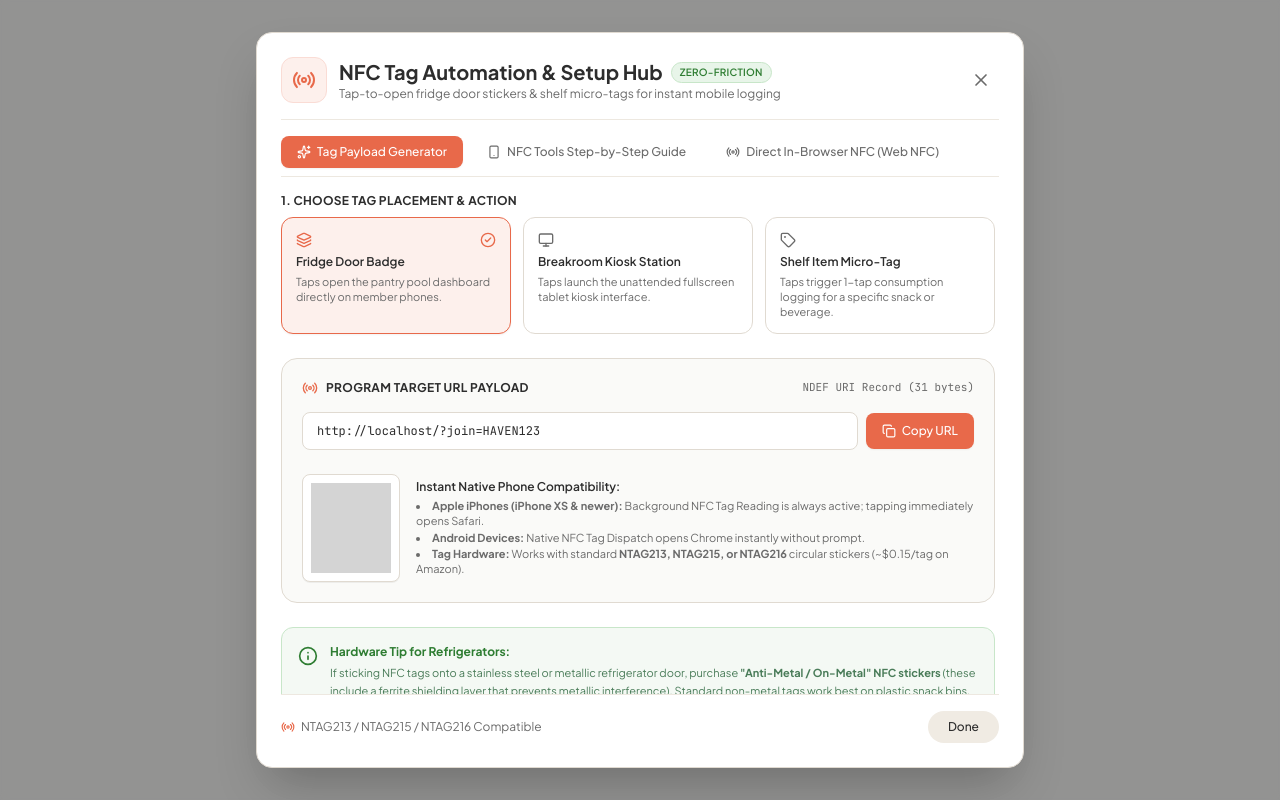
it: NFCTagModal Component › switches between Fridge Door, Kiosk Mode, and Item Micro-Tag payloads
The width and height of the screenshot is (1280, 800).
Note: Switch to Kiosk
Click the text "Breakroom Kiosk Station": (609, 262) [538,254,681,269]
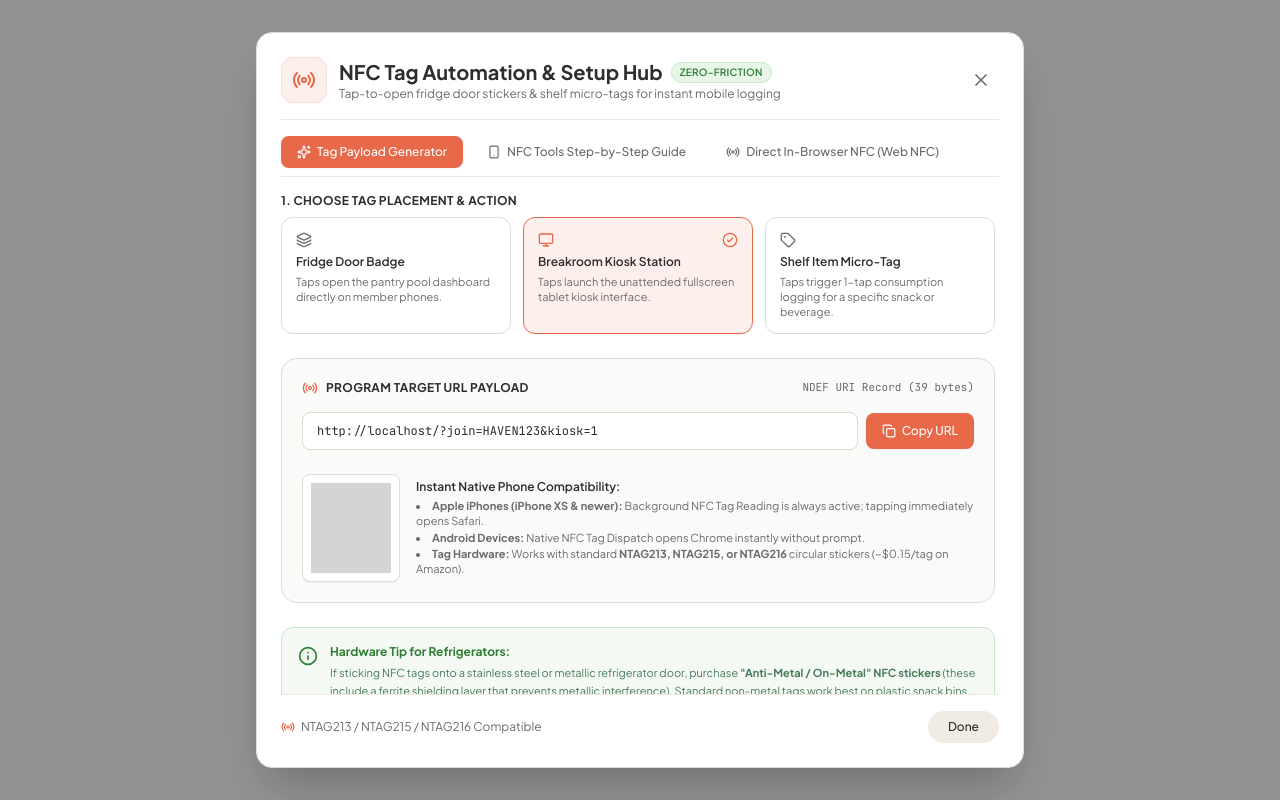
Check: the field showing "kiosk=1" is shown, box [302,412,858,450]
Note: Switch to Item Micro-Tag
Click the text "Shelf Item Micro-Tag": (840, 262) [780,254,901,269]
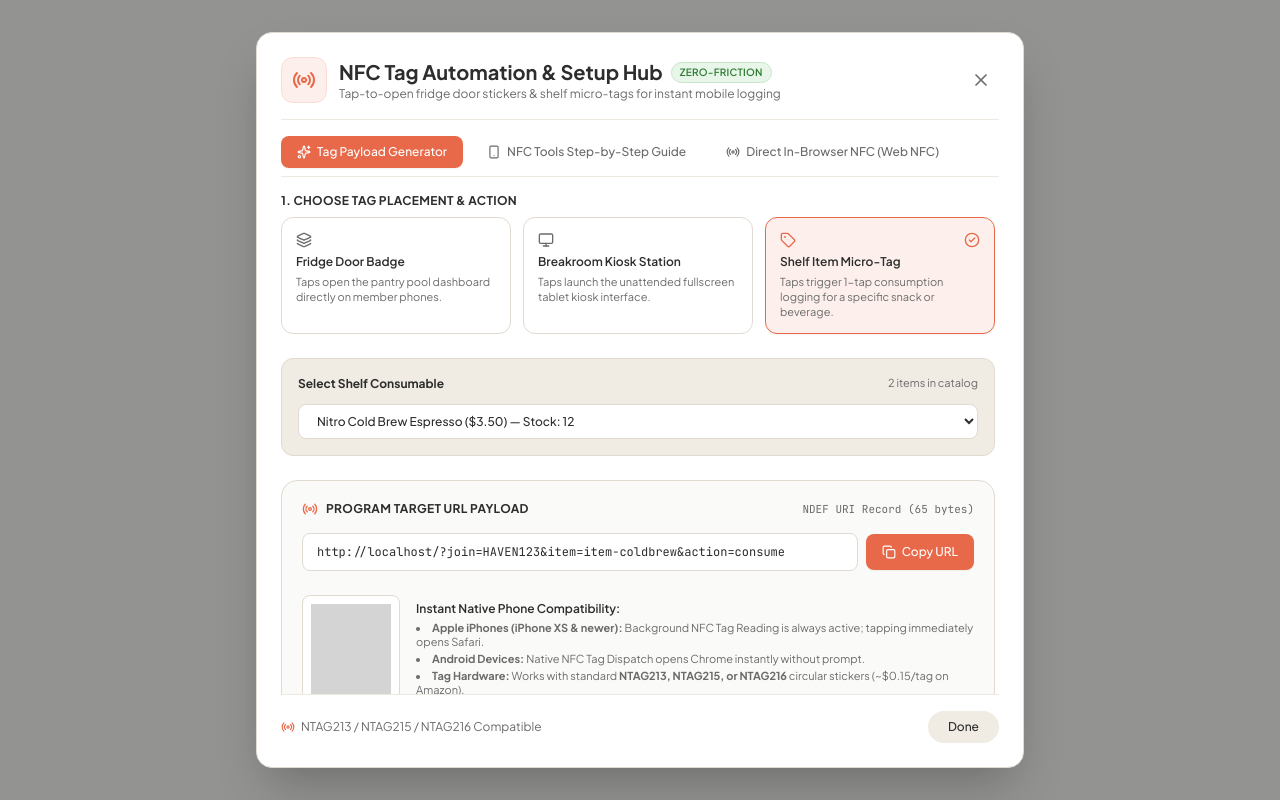
Check: the text "Select Shelf Consumable" is shown, box [298,376,444,392]
Check: the field showing "item=item-coldbrew" is shown, box [302,533,858,571]
